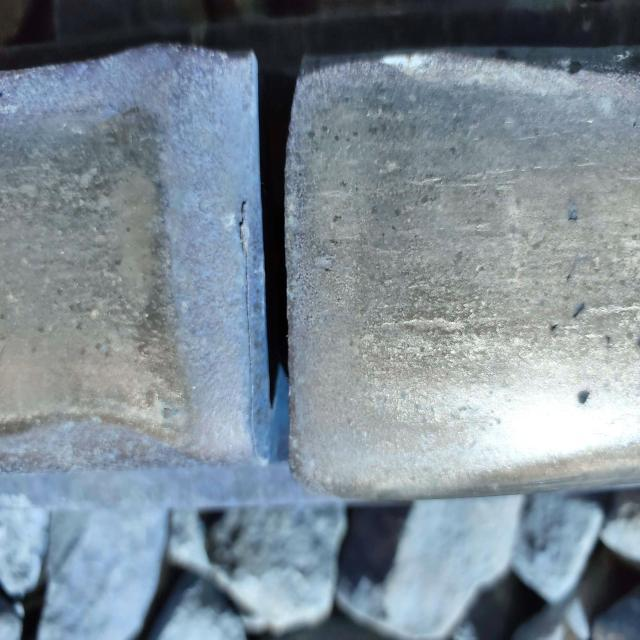broken_rail_low: (184, 46, 384, 454)
